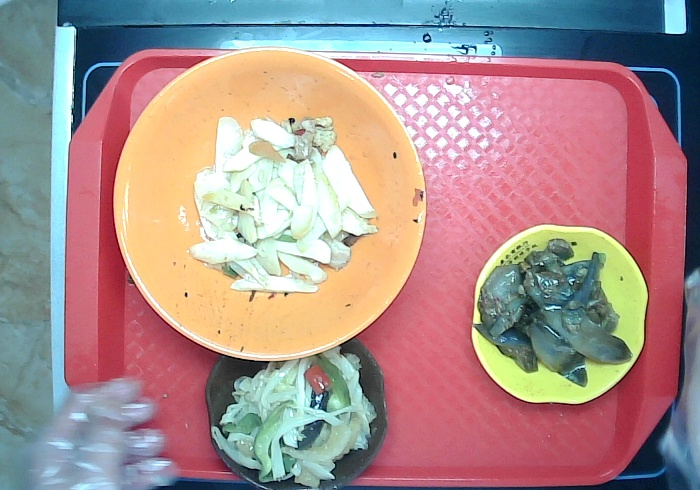YKMZ-Huang_Se_Ao_Bian_Wan: (470, 223, 650, 405)
YKMZ-Ju_Se_Tang_Wan: (111, 44, 428, 363)
YKMZ-Ka_Fei_Ao_Bian_Wan: (203, 336, 391, 490)
